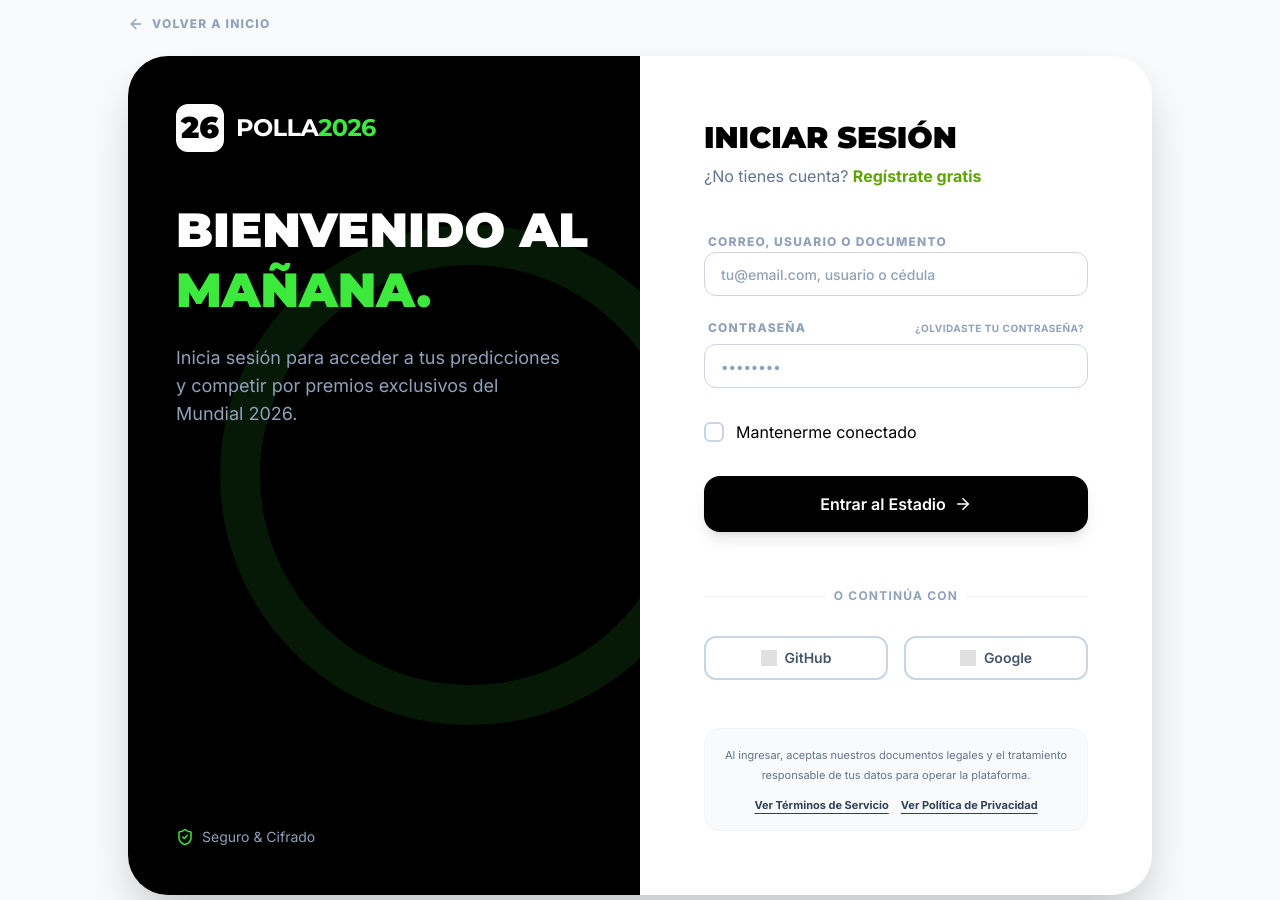
Test: Login view › opens and closes the legal dialog from login without leaving the screen
Click the button "Ver Términos de Servicio": (822, 805) [754, 797, 889, 814]
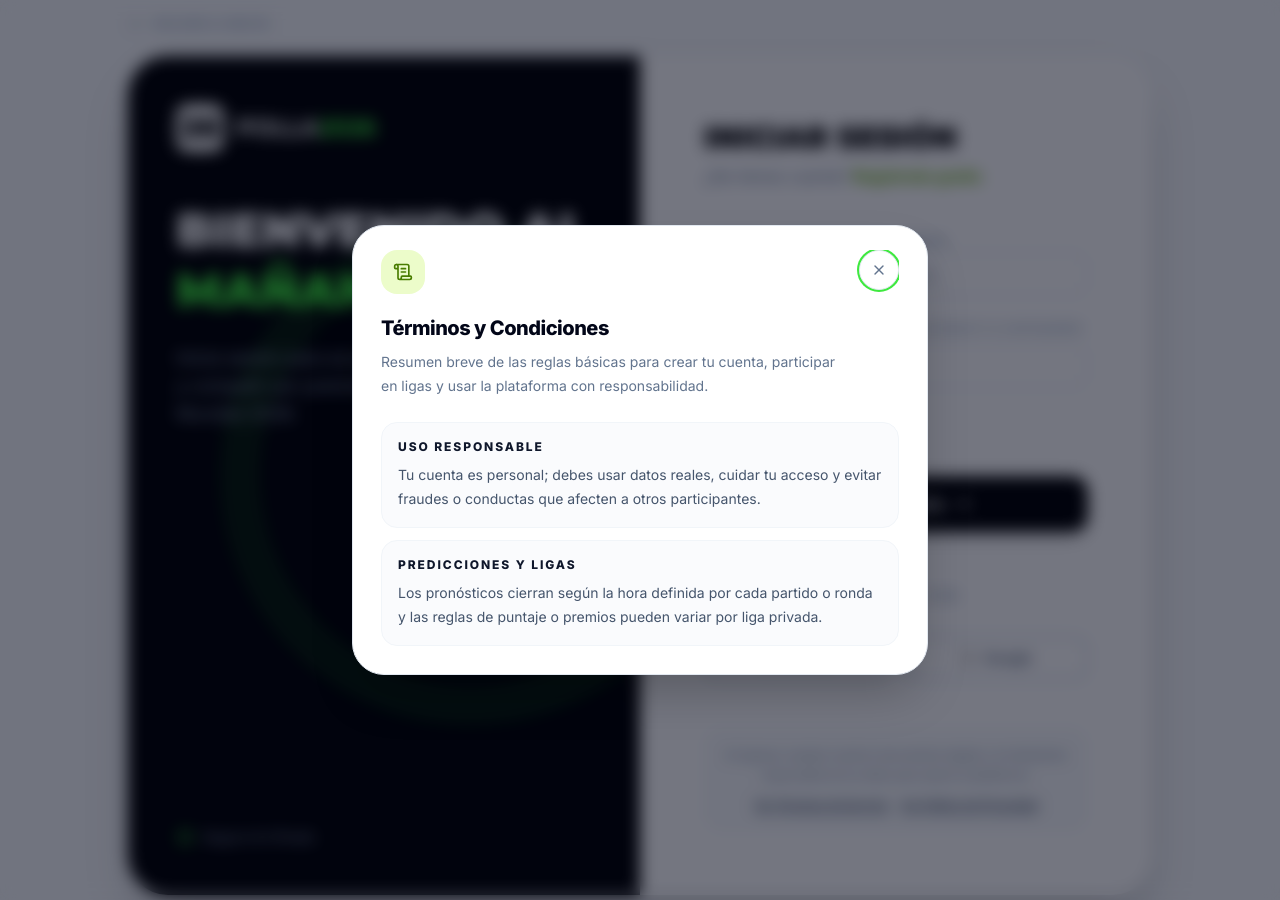
Expected: the dialog "Términos y Condiciones" is shown, [352, 225, 928, 675]
Click the button named "cerrar términos y condiciones": (879, 270) [859, 250, 899, 290]
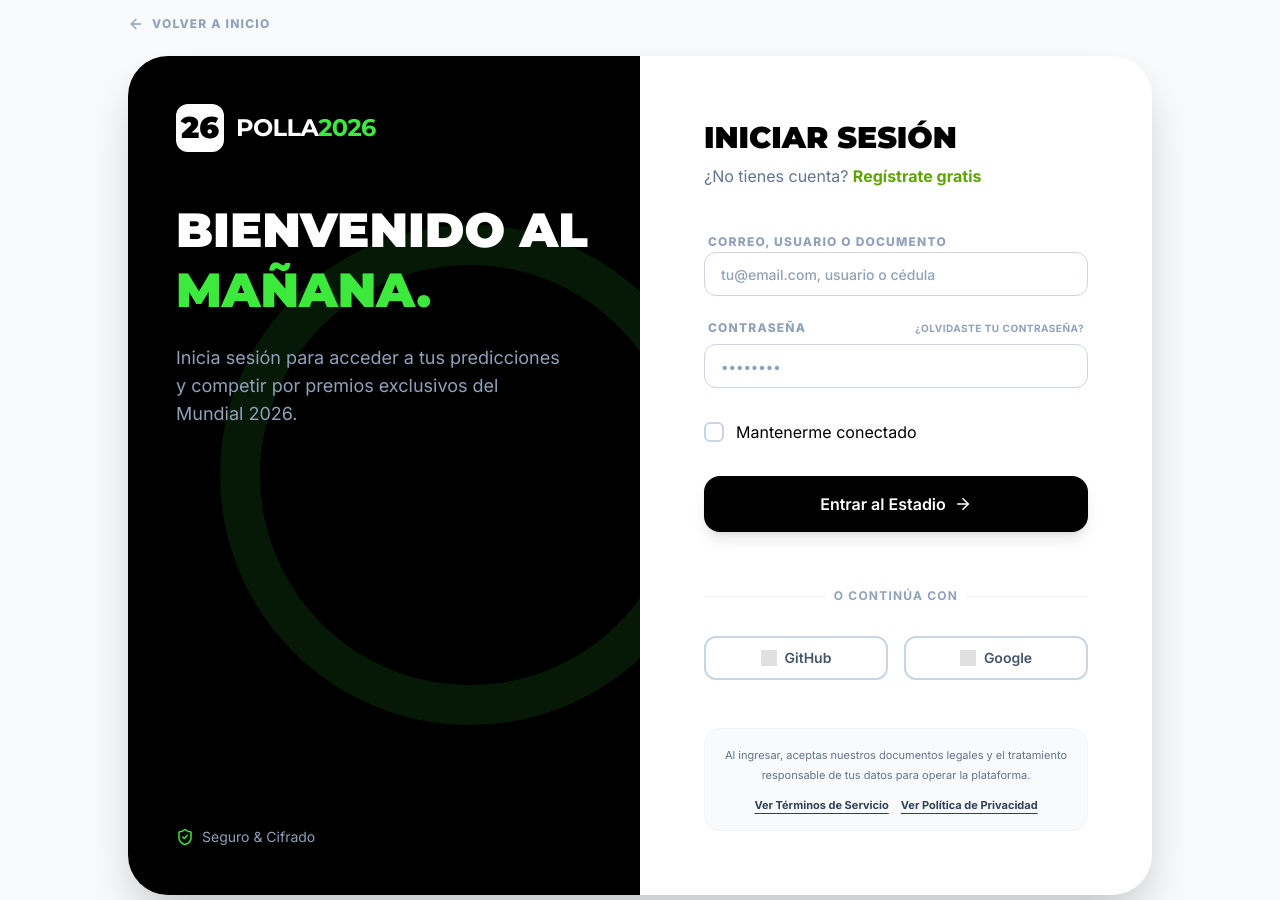
Expected: the button "Entrar al Estadio" is shown, [704, 476, 1088, 532]
Expected: the heading "Términos y Condiciones" is gone
